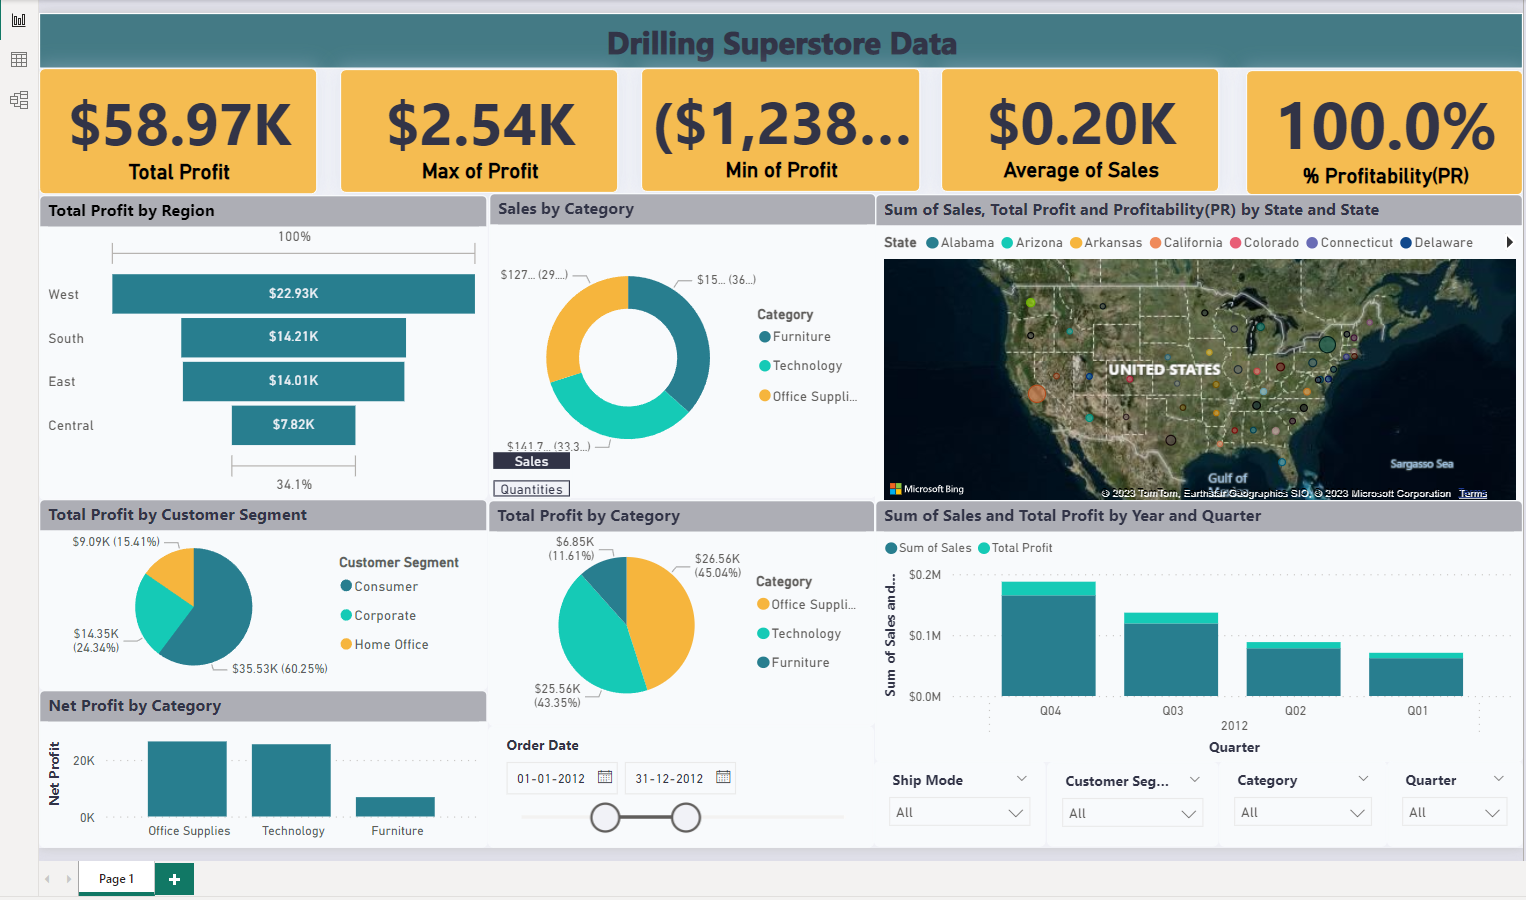

What the dashboard file says about the page in this screenshot:
{"tool":"powerbi","page":{"name":"Page 1","canvas":[1280,720],"ordinal":0},"visuals":[{"type":"textbox","box":[0,0,1280,47.7],"z":0},{"type":"card","fields":{"Values":["Orders.Total Profit"]},"box":[0,47.4,239.7,108.7],"z":1000},{"type":"card","fields":{"Values":["Max(Orders.Profit)"]},"box":[259.6,48.3,239.8,107],"z":2000},{"type":"card","fields":{"Values":["Min(Orders.Profit)"]},"box":[519.2,47.4,240.6,107],"z":3000},{"type":"card","fields":{"Values":["Avg(Orders.Sales)"]},"box":[778,47.4,239.8,107],"z":4000},{"type":"card","fields":{"Values":["Orders.Profitability(PR)"]},"box":[1041.1,49.2,238.9,107.8],"z":5000},{"type":"map","fields":{"Category":["Orders.State"],"Series":["People.State"],"Size":["Sum(Orders.Sales)"]},"box":[721.4,156,558.6,274.8],"z":6000},{"type":"pieChart","fields":{"Category":["Orders.Customer Segment"],"Y":["Orders.Total Profit"]},"box":[0,419.2,387,164.8],"z":7000},{"type":"donutChart","title":"Sales by Category","fields":{"Category":["Orders.Category"],"Y":["Sum(Orders.Sales)"]},"box":[387.8,154.9,333.6,263.5],"z":8000},{"type":"funnel","fields":{"Category":["Orders.Region"],"Y":["Orders.Total Profit"]},"box":[0,157,387,263.2],"z":9000},{"type":"pieChart","fields":{"Category":["Orders.Category"],"Y":["Orders.Total Profit"]},"box":[387,420.2,334.4,195],"z":10000},{"type":"columnChart","fields":{"Category":["Date_Dim.Year","Date_Dim.Quarter"],"Y":["Sum(Orders.Sales)","Orders.Total Profit"]},"box":[721.4,420.2,558.6,226.2],"z":11000},{"type":"slicer","fields":{"Values":["Orders.Customer Segment"]},"box":[869.6,646.3,148.2,73.1],"z":12000},{"type":"slicer","fields":{"Values":["Orders.Ship Mode"]},"box":[720.4,645.4,148.2,74.1],"z":13000},{"type":"slicer","fields":{"Values":["Orders.Category"]},"box":[1017.8,645.4,145.3,74.1],"z":14000},{"type":"slicer","fields":{"Values":["Orders.Order Date"]},"box":[387,615.1,333.4,105.3],"z":15000},{"type":"slicer","fields":{"Values":["Date_Dim.Quarter"]},"box":[1163,645.4,117,74.1],"z":16000},{"type":"columnChart","fields":{"Y":["Orders.Net Profit"],"Category":["Orders.Category"]},"box":[0,583.9,387,136.5],"z":17000},{"type":"bookmarkNavigator","box":[389,376.1,70.7,44],"z":19500}]}

Visuals, with their boxes in screenshot pixels (x1, y1, x2, y2):
textbox: locate(64, 8, 1515, 62)
card - Orders.Total Profit: locate(64, 62, 335, 185)
card - Max(Orders.Profit): locate(358, 63, 630, 184)
card - Min(Orders.Profit): locate(652, 62, 925, 183)
card - Avg(Orders.Sales): locate(946, 62, 1218, 183)
card - Orders.Profitability(PR): locate(1244, 64, 1515, 186)
map - Orders.State x People.State: locate(882, 185, 1515, 496)
pieChart - Orders.Customer Segment x Orders.Total Profit: locate(64, 483, 502, 670)
"Sales by Category" donutChart: locate(503, 184, 882, 482)
funnel - Orders.Region x Orders.Total Profit: locate(64, 186, 502, 484)
pieChart - Orders.Category x Orders.Total Profit: locate(502, 484, 882, 706)
columnChart - Date_Dim.Year x Date_Dim.Quarter: locate(882, 484, 1515, 741)
slicer - Orders.Customer Segment: locate(1050, 741, 1218, 824)
slicer - Orders.Ship Mode: locate(881, 740, 1049, 824)
slicer - Orders.Category: locate(1218, 740, 1383, 824)
slicer - Orders.Order Date: locate(502, 705, 881, 825)
slicer - Date_Dim.Quarter: locate(1382, 740, 1515, 824)
columnChart - Orders.Net Profit x Orders.Category: locate(64, 670, 502, 825)
bookmarkNavigator: locate(505, 434, 585, 484)
